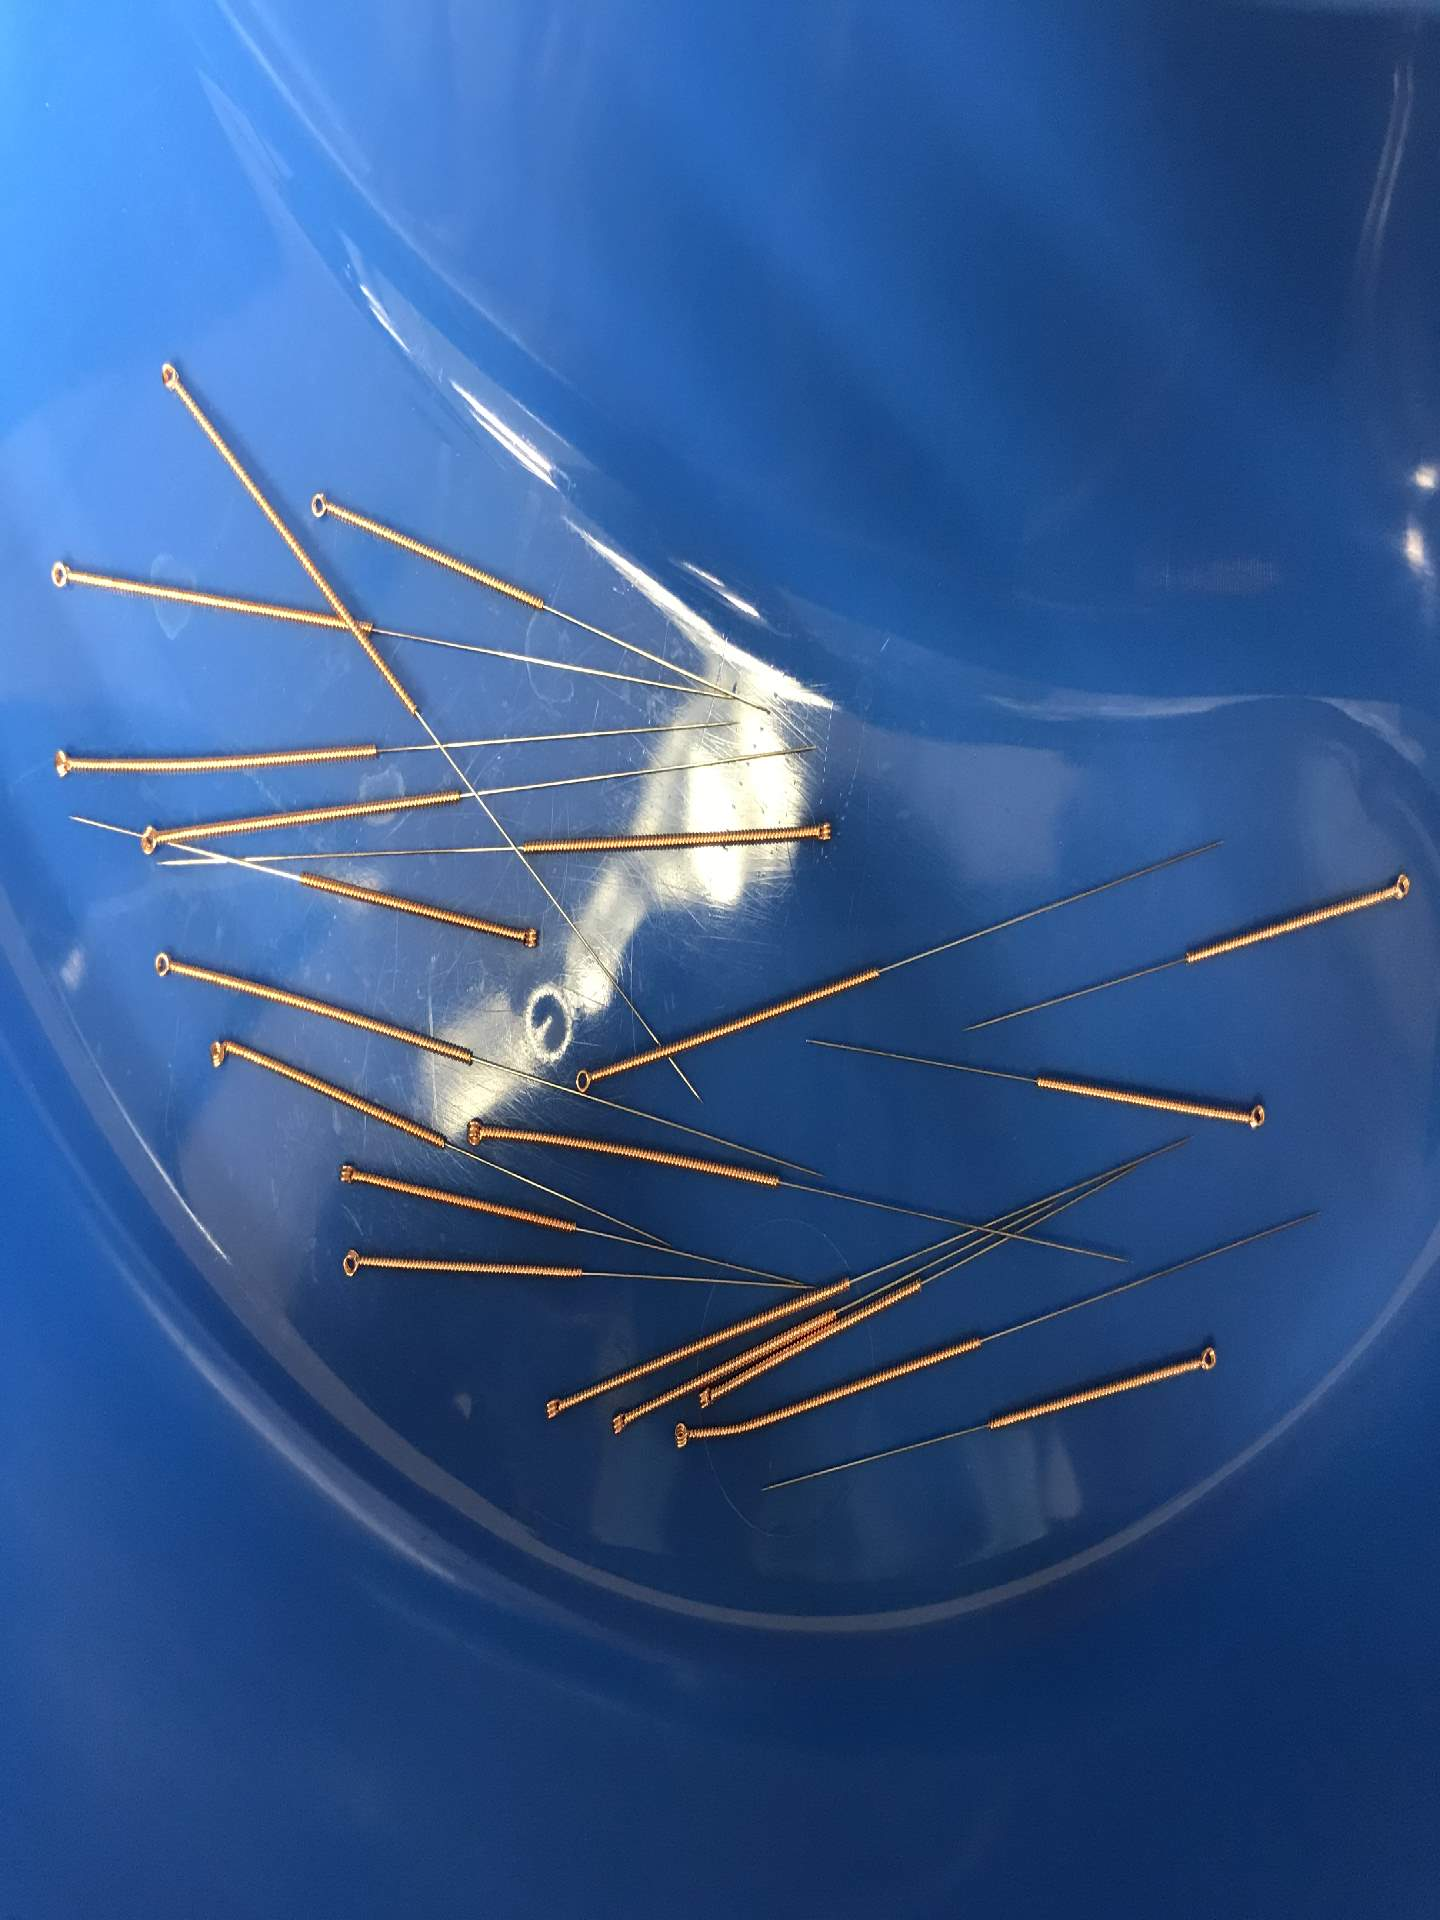needle: (42, 739, 88, 785), (39, 550, 83, 596), (1376, 863, 1417, 910), (331, 1238, 374, 1282), (301, 481, 340, 528), (151, 352, 188, 402), (1186, 1336, 1227, 1380), (1234, 1095, 1275, 1138), (129, 819, 169, 862), (799, 810, 841, 851), (144, 945, 185, 986), (535, 1383, 572, 1427), (508, 918, 548, 957), (330, 1154, 368, 1194), (458, 1116, 498, 1154), (566, 1058, 604, 1098), (601, 1403, 638, 1442), (666, 1417, 706, 1453), (200, 1034, 234, 1076), (691, 1380, 728, 1417)
